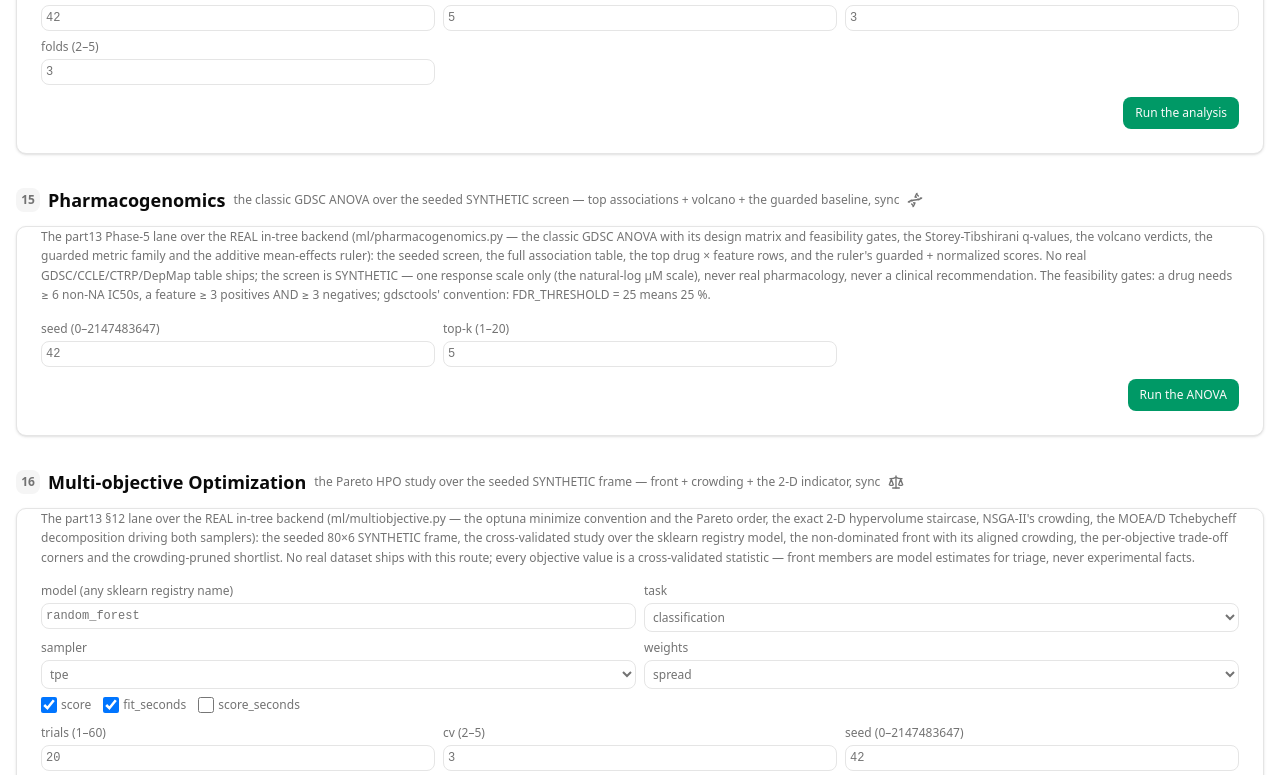
Scenario: the pharmacogenomics lane of the Machine Learning workspace › surfaces the backend's own hard 422 verbatim through the banner
(page scrolled)
Step 1. Click the button "Run the ANOVA" → (1183, 395), box [1128,379,1239,411]
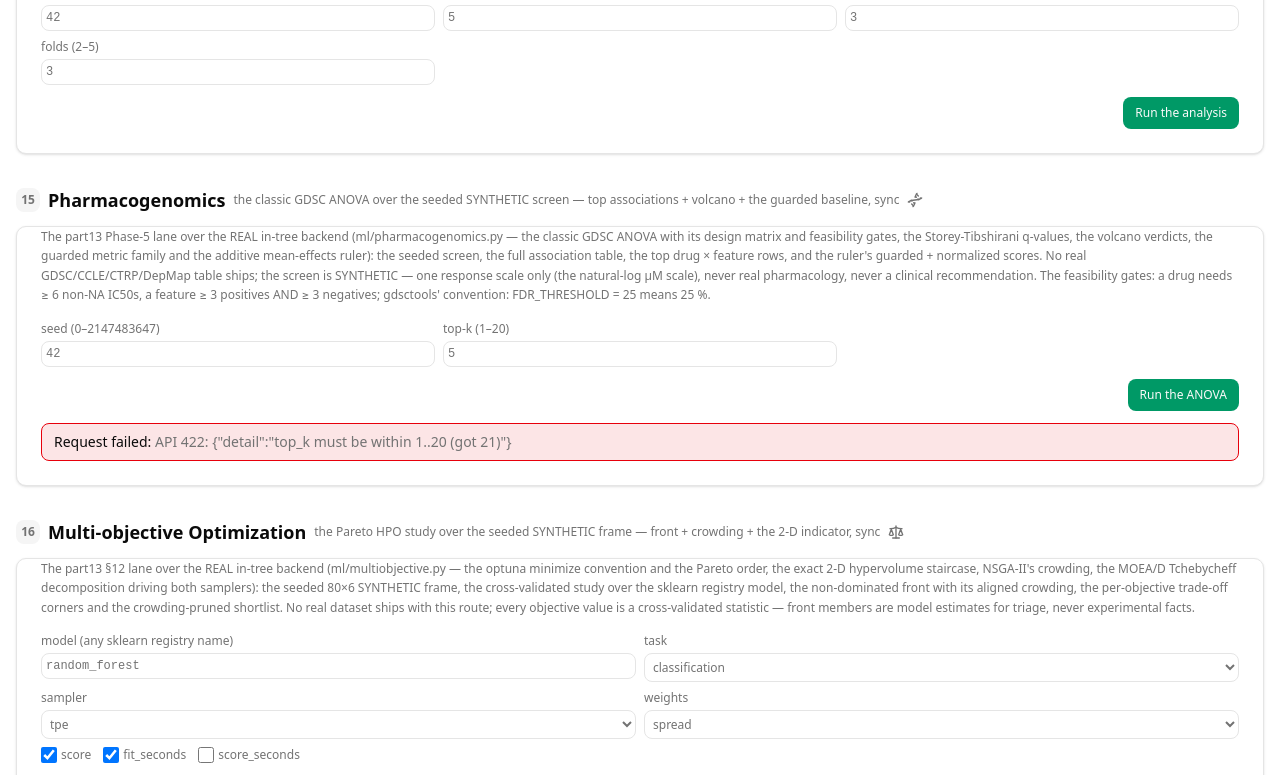
Expected: the text "API 422: {\"detail\":\"top_k must be within 1..20 (got 21)\"}" is shown, [155,432,512,451]
